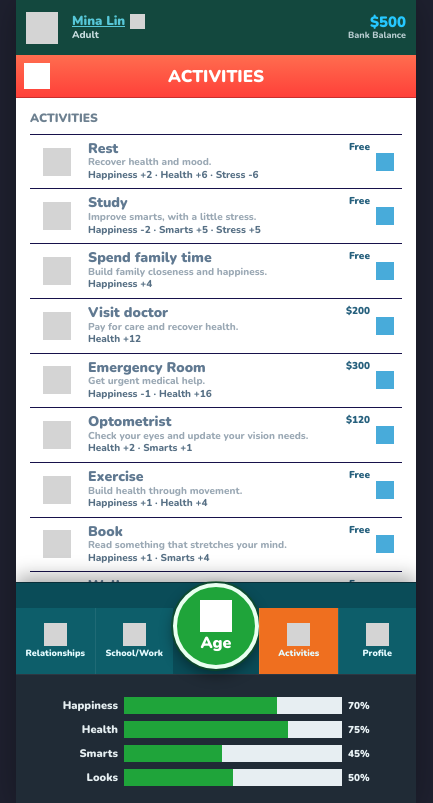
it: App › shows activity costs and gives feedback after running an activity
Check: the 1st text "Free" is shown, box [349,142,370,153]
Check: the text "$200" is shown, box [346,306,370,317]
What coordinates should you click on to do the following:
click the button "Rest"
I would click on:
 (103, 148)
Its box is [30,135,402,190].
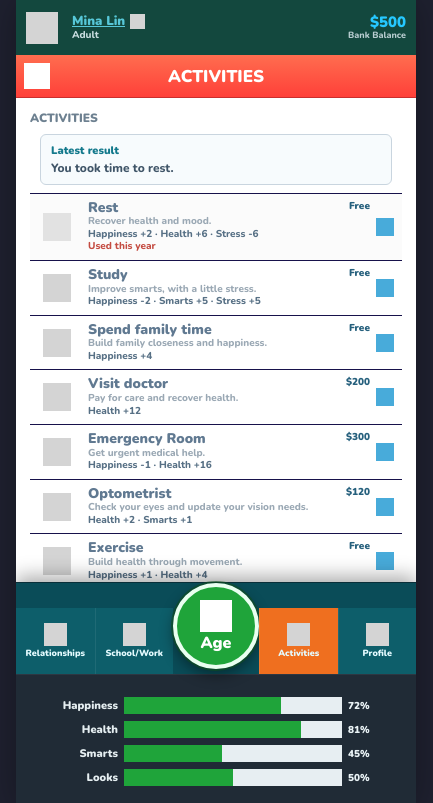
Check: the text "You took time to rest." is shown, box [51,160,174,176]
